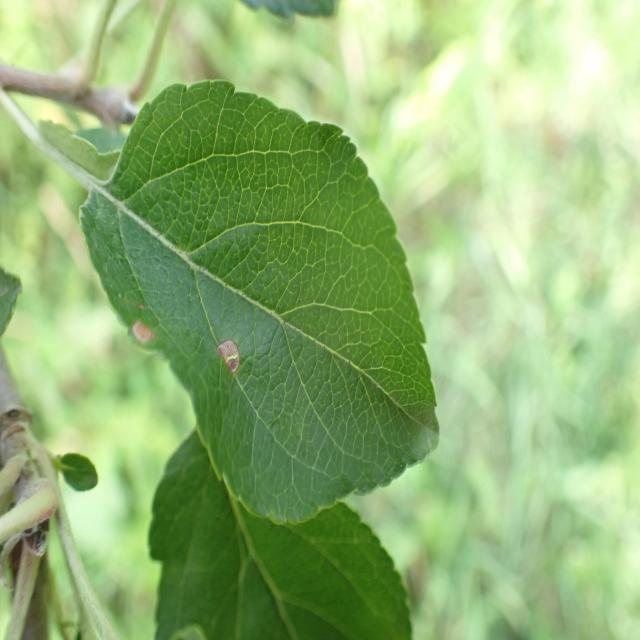Black Rot: (114, 281, 166, 386), (215, 326, 249, 397)
